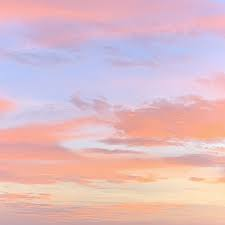sky: (2, 1, 224, 225)
